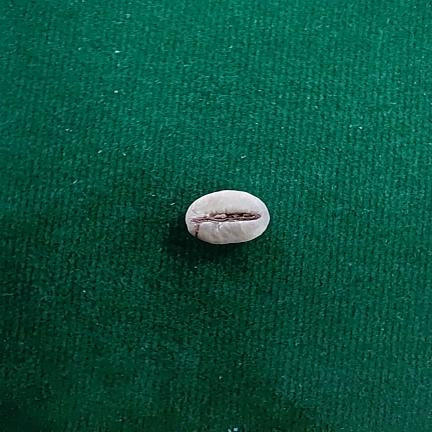immature: (185, 190, 270, 244)
